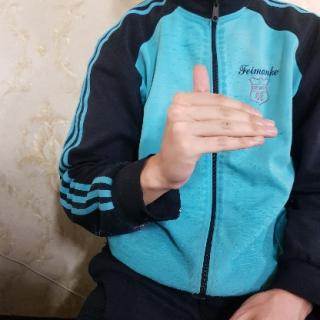KHAA: (153, 58, 283, 196)
